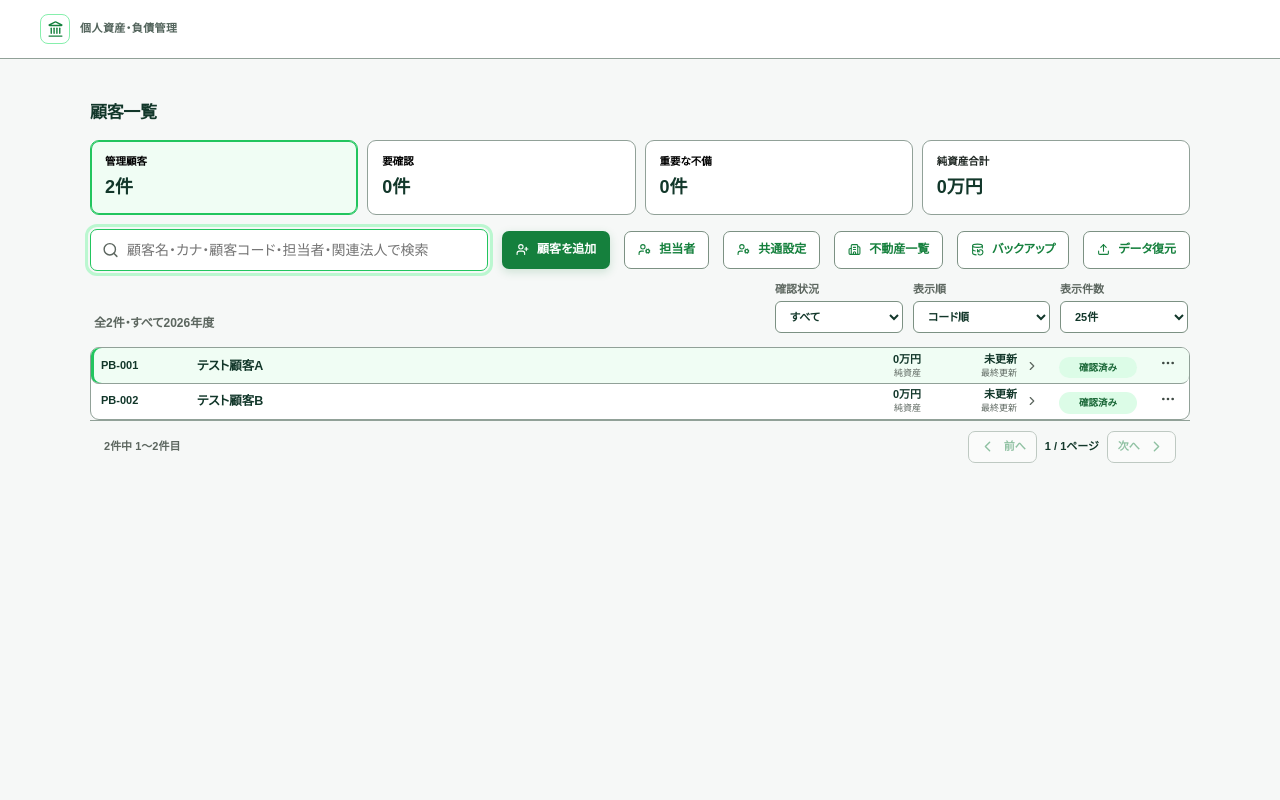
Test: 顧客一覧からの削除 › 確認情報を取得できないときは削除を開始しない
Click the button named "テスト顧客Aの操作": (1168, 363) x1=1153 y1=348 x2=1183 y2=378
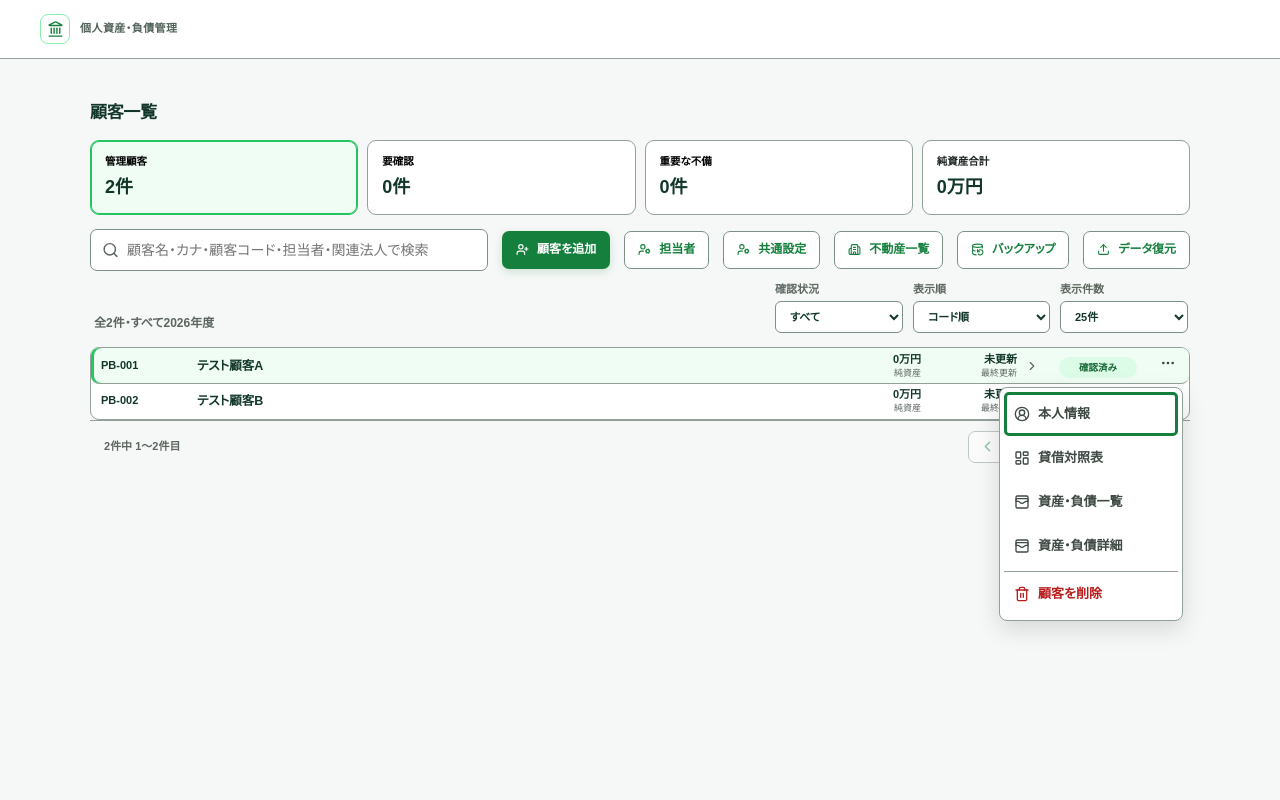
Click the menu item "顧客を削除": (1091, 594) x1=1004 y1=572 x2=1178 y2=616
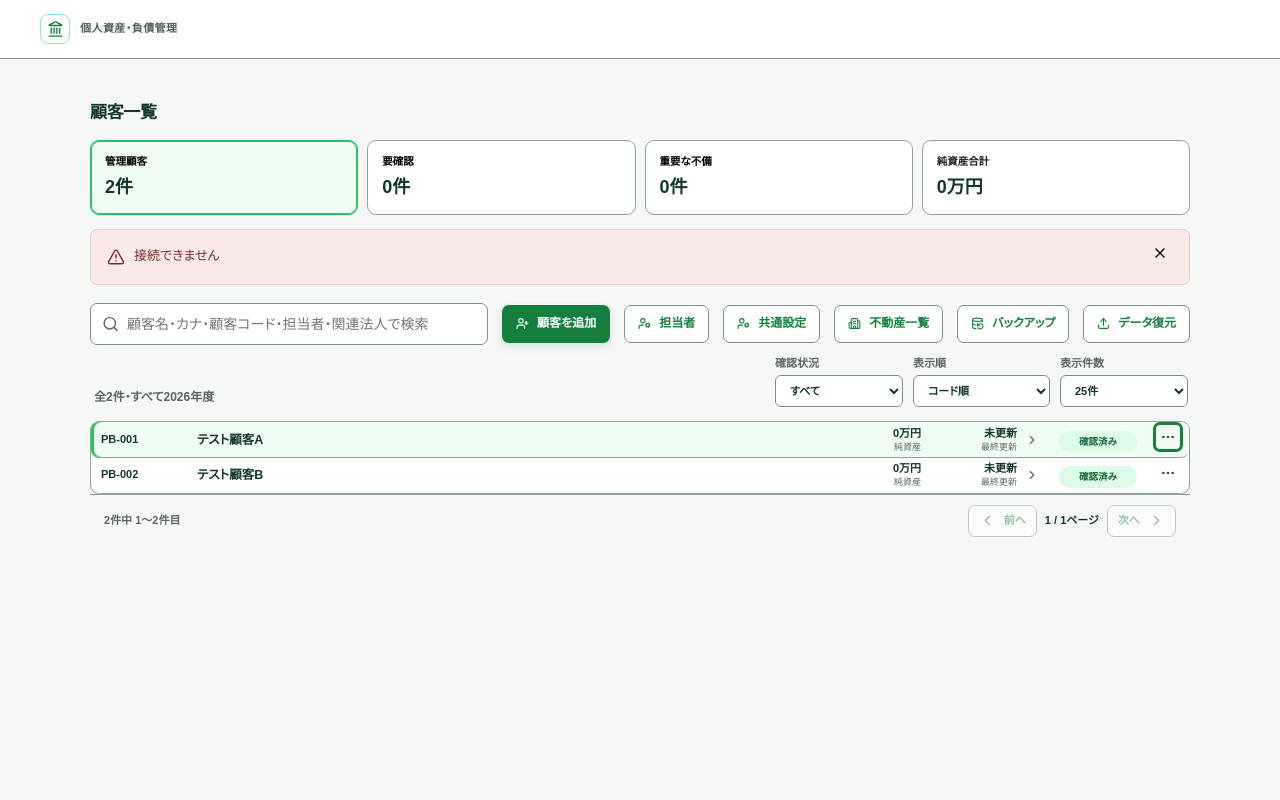
Expected: the message "接続できません" is shown, x1=90 y1=229 x2=1190 y2=285
